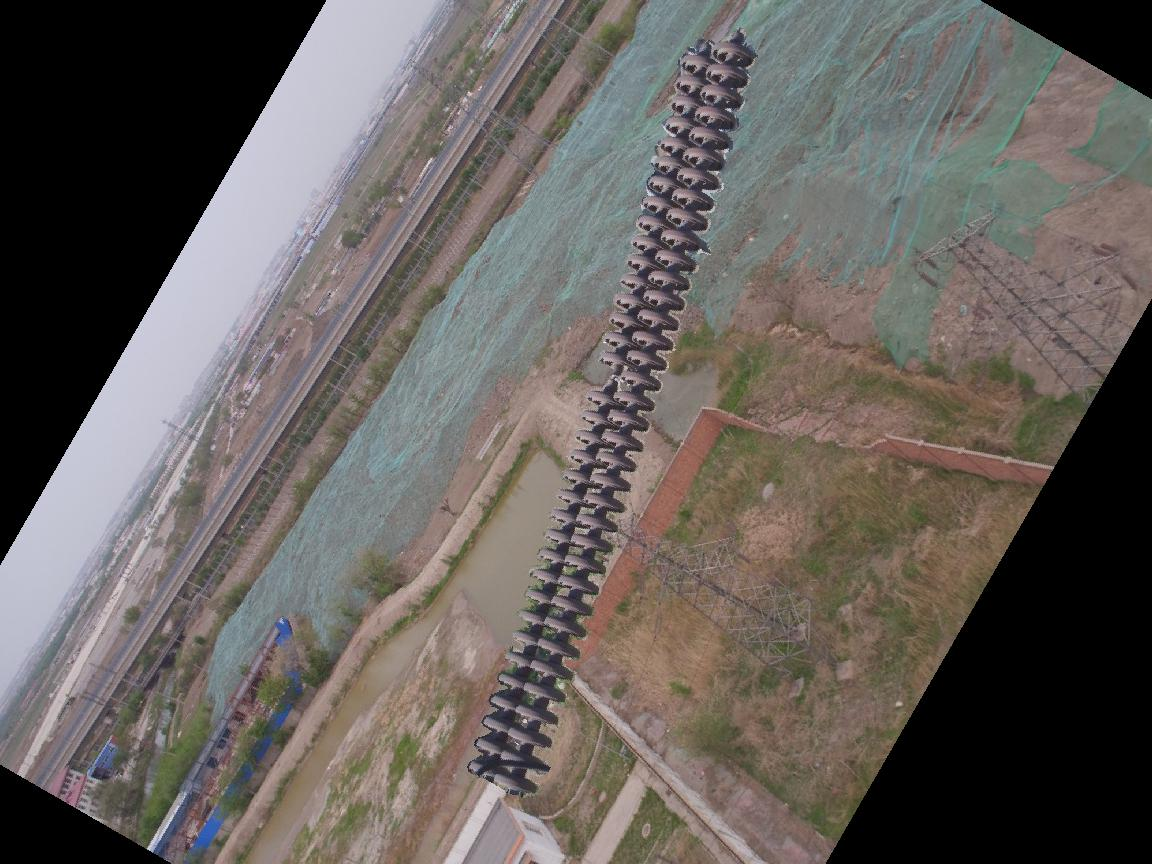insulator: (463, 36, 756, 800)
insulator_stringdrop: (584, 349, 633, 411)
